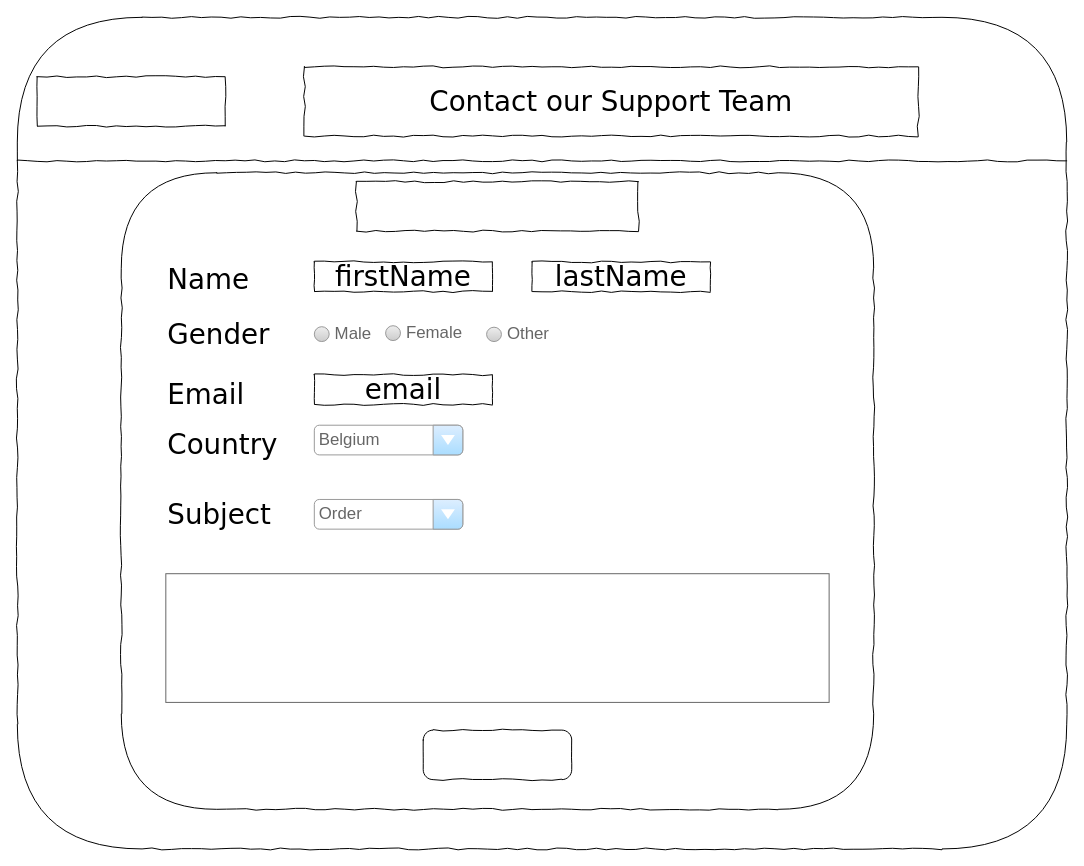
Some shapes in this 1084 by 866 pixel diagram are drawn without their labels. Each missing label, with the centre of its shape:
LOGO: point 130,101
Message: point 497,637
Send: point 497,754
Support Request: point 497,206
